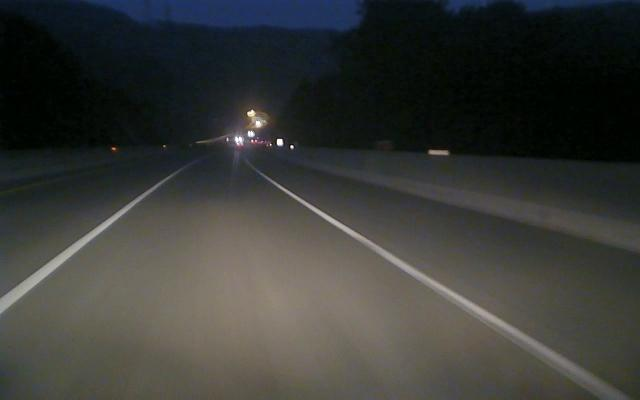lane: (274, 182, 640, 400), (0, 177, 169, 315)
